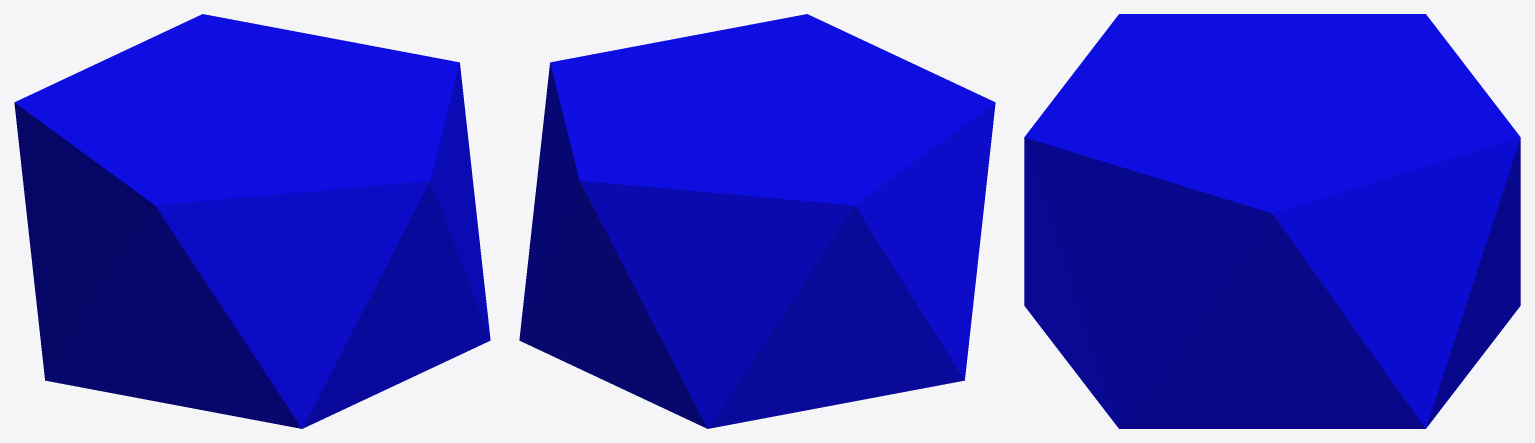
Rendered from regular_pentagonal_antiprism.fbx.
3 views of the same model, side by side, from view 1: azimuth 30°, elevation 25°; view 2: azimuth 150°, elevation 25°; view 3: azimuth 270°, elevation 25° (orthographic). The views are drawn at different scales.
Parts seen in each view (by area): view 1: regular_pentagonal_antiprism; view 2: regular_pentagonal_antiprism; view 3: regular_pentagonal_antiprism.
Part boxes in pixels (box(x1,y1,x2,y2)): regular_pentagonal_antiprism: box(14, 14, 490, 428); regular_pentagonal_antiprism: box(519, 14, 995, 428); regular_pentagonal_antiprism: box(1024, 14, 1520, 428).
Size of the model in its own units: 179 by 89.44 by 170.
